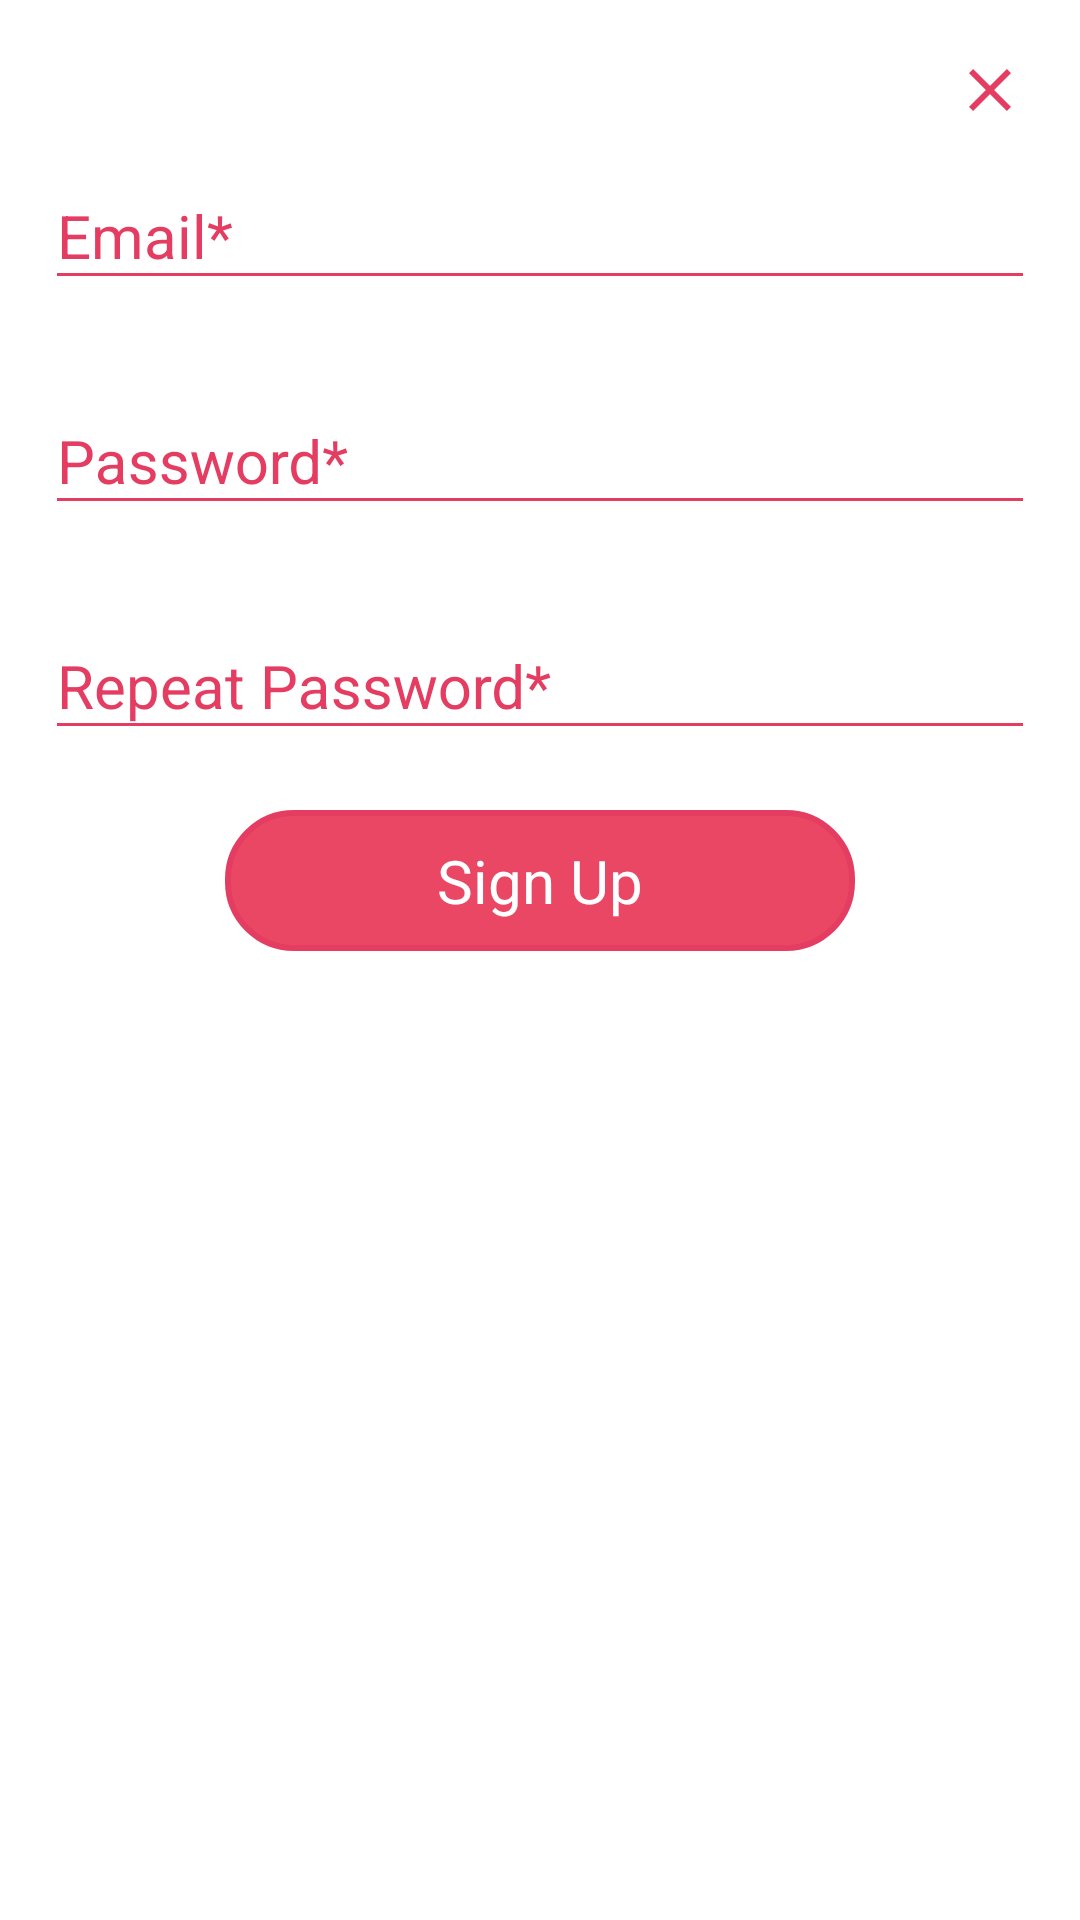

Screen size 1080 x 1920. Icon name, then its center in pixels as (x,y):
cancel: (990,90)
